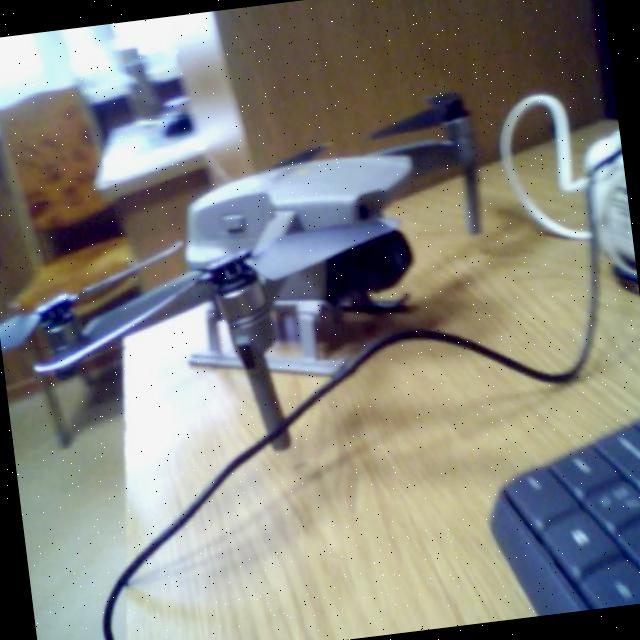drone: (0, 66, 563, 465)
